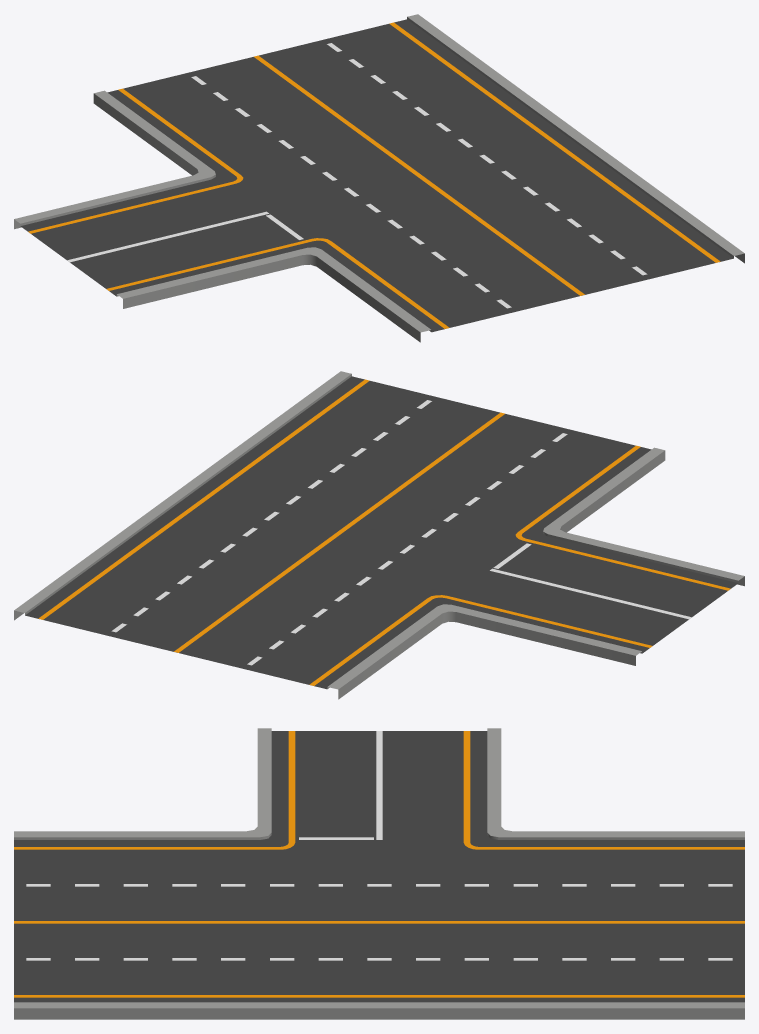
File: Road_A_2L_2_4.fbx
3 renders of one model, top to bottom at view 1: azimuth 30°, elevation 25°; view 2: azimuth 150°, elevation 25°; view 3: azimuth 270°, elevation 25°, orthographic. The views are drawn at different scales.
Visible parts, largest first — view 1: Road_A_2L_2_4; view 2: Road_A_2L_2_4; view 3: Road_A_2L_2_4.
Part boxes in pixels (x1,y1,x2,y2): Road_A_2L_2_4: [14, 14, 744, 342]; Road_A_2L_2_4: [14, 371, 744, 699]; Road_A_2L_2_4: [14, 728, 744, 1019].
Size of the model in its own units: 2175 by 41.48 by 2400.
